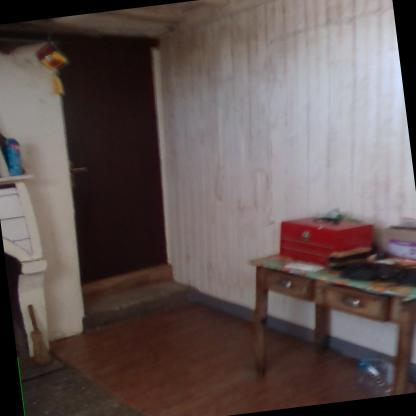closed: (34, 21, 191, 310)
